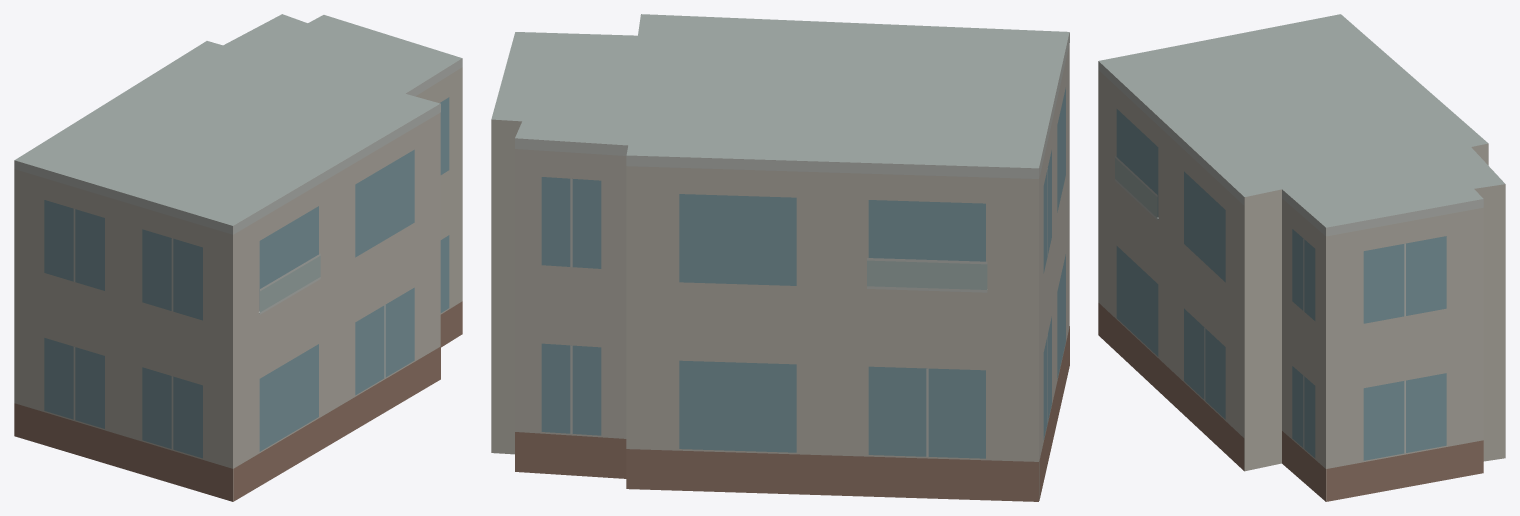
Rendered from survey-upis-33042885.glb.
3 renders of one model, left to right at view 1: azimuth 30°, elevation 25°; view 2: azimuth 150°, elevation 25°; view 3: azimuth 270°, elevation 25°, orthographic. The views are drawn at different scales.
Visible parts, largest first — view 1: survey-upis-33042885.tmp; view 2: survey-upis-33042885.tmp; view 3: survey-upis-33042885.tmp.
Boxes of the visible parts, x1,y1,x2,y2 form: survey-upis-33042885.tmp: (14, 14, 462, 501); survey-upis-33042885.tmp: (491, 14, 1069, 501); survey-upis-33042885.tmp: (1098, 14, 1505, 501).
Bounding box in the file's own units: 12.72 × 7.6 × 10.24.
